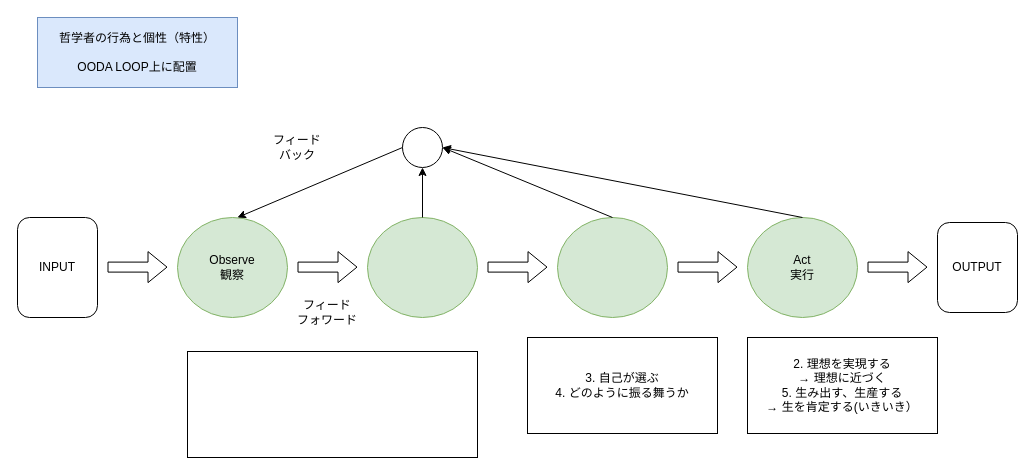
Image size: 1035x475. Some labels were removed from this diagram. Each missing label, with the box of its shape:
1. 自らの行為の原則 → すること、しないことを決める 2. 内的な先天的要求 →条件に合致する、しない 4. 与えられた状況: (186, 350, 478, 458)
Decide 意思決定: (556, 216, 668, 318)
Orient 情勢判断: (366, 216, 478, 318)
